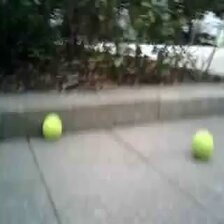tennis: (191, 128, 214, 157), (41, 112, 62, 138)
